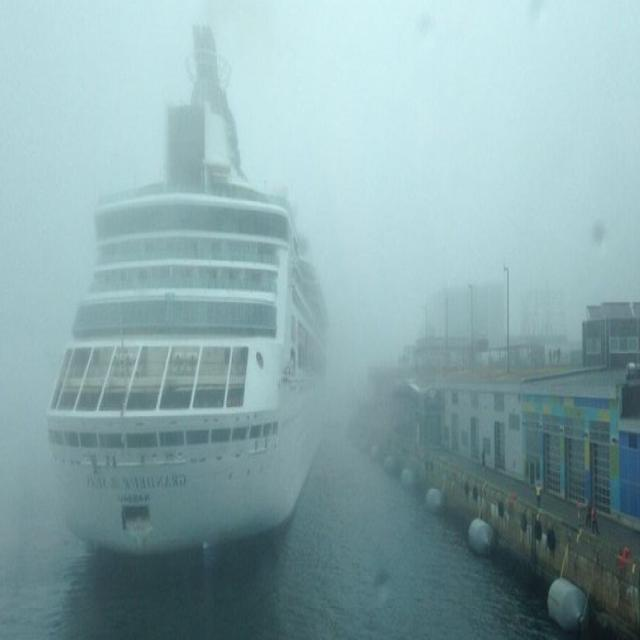passenger ship: (49, 20, 338, 553)
